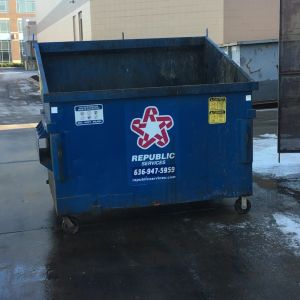Dumpster: (30, 29, 263, 237)
